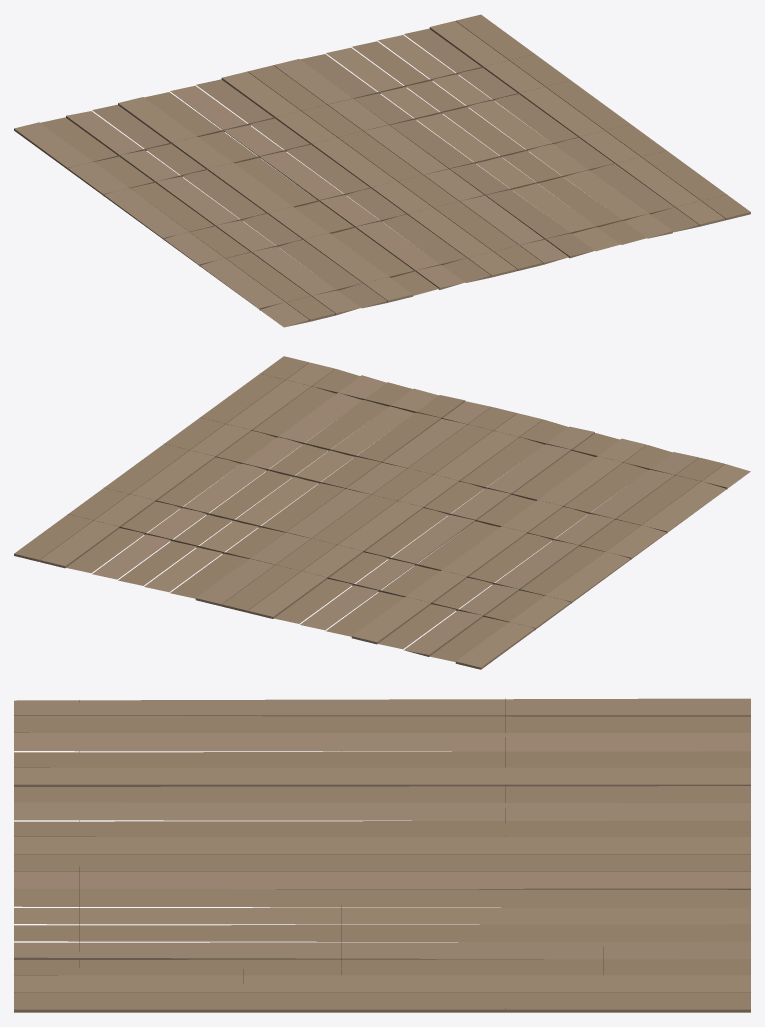
The model's file is home_floor_boards_s1__walnut_low.glb.
3 renders of one model, top to bottom at view 1: azimuth 30°, elevation 25°; view 2: azimuth 150°, elevation 25°; view 3: azimuth 270°, elevation 25°, orthographic. The views are drawn at different scales.
Bounding box in the file's own units: 9 × 0.042 × 9.
